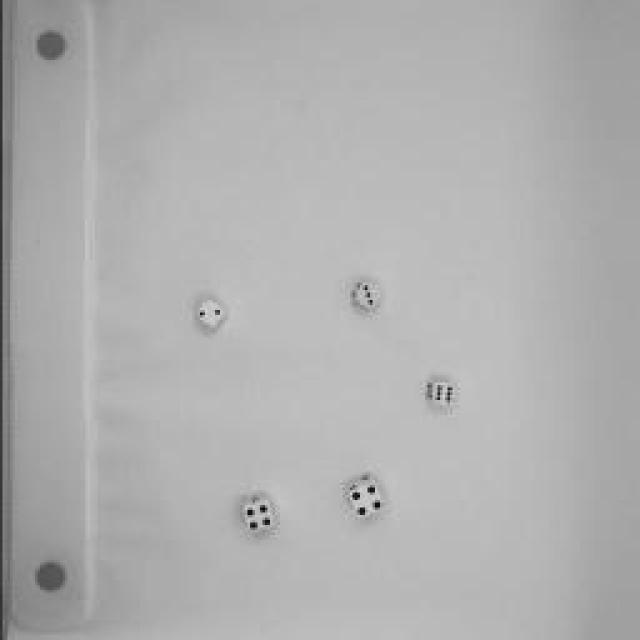dice_2: (191, 295, 229, 335)
dice_3: (345, 274, 383, 316)
dice_4: (341, 471, 391, 524), (235, 491, 280, 539)
dice_6: (422, 375, 460, 410)
